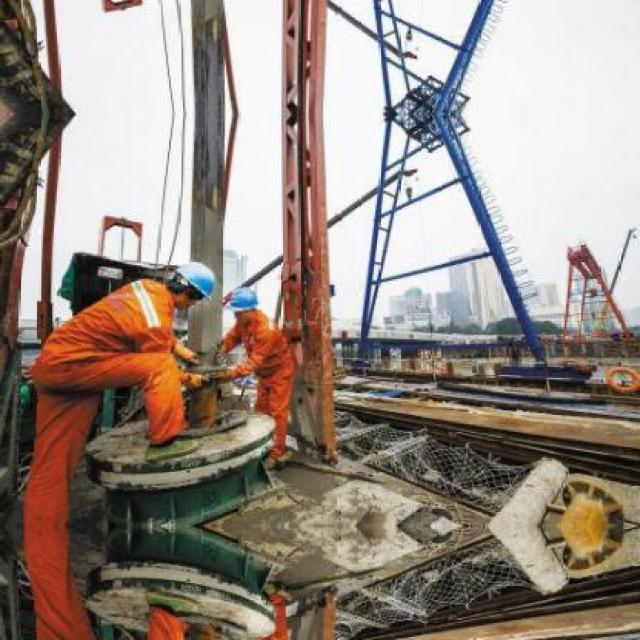Reflective-Jacket: (19, 276, 183, 470), (224, 319, 304, 424)
Safety-Helmet: (166, 254, 223, 308), (220, 282, 268, 319)
